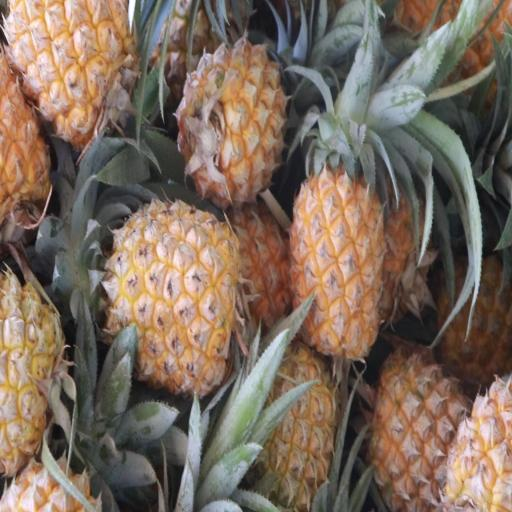------------------------------: (374, 352, 478, 510)
Pineapple - v8 v1: (106, 200, 235, 390), (290, 156, 386, 352), (6, 0, 137, 137), (181, 38, 284, 196), (0, 269, 69, 466), (252, 344, 337, 502)
